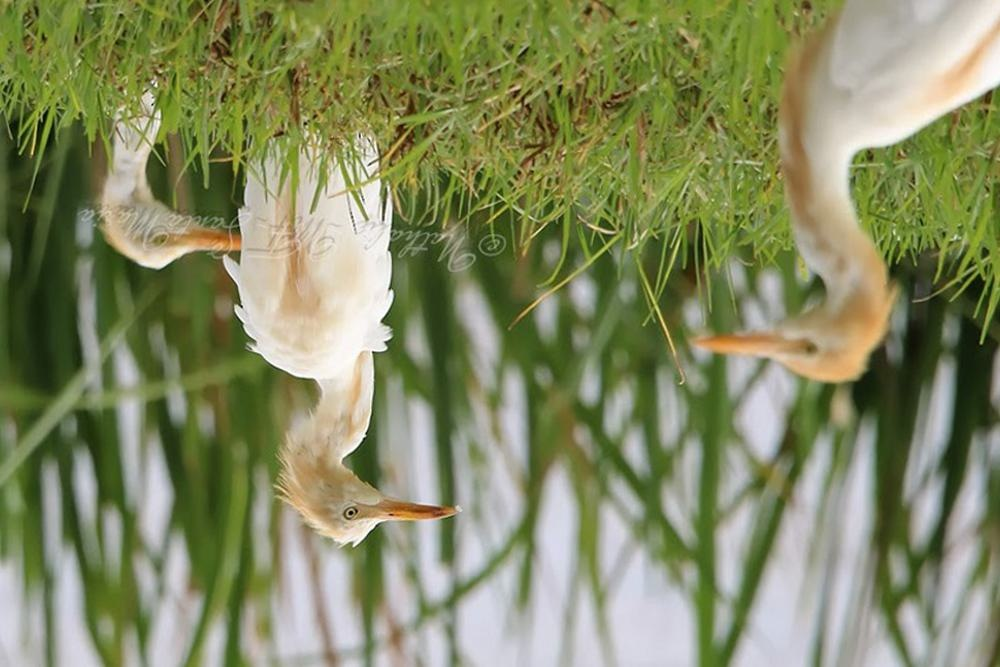egret: (684, 18, 1000, 396), (231, 137, 475, 554), (79, 102, 239, 265)
